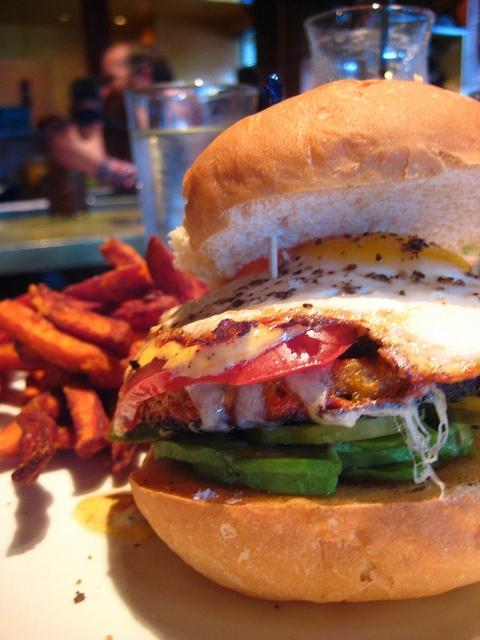avocado: (150, 428, 342, 498), (337, 422, 476, 470), (257, 417, 406, 445), (338, 460, 427, 482)
tomato: (114, 322, 361, 438)
